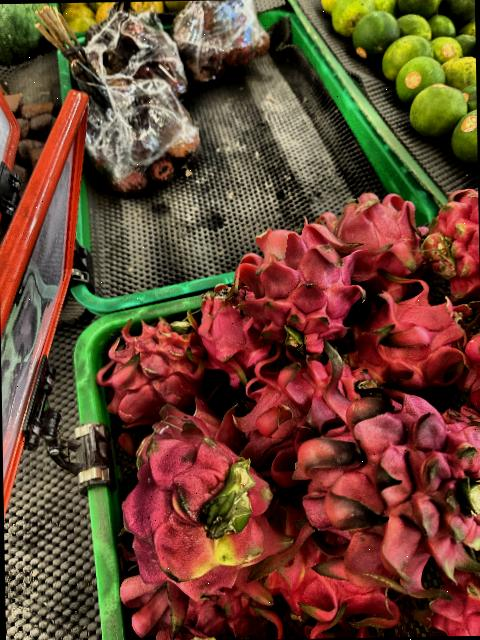buah-naga-belum-matang: (104, 416, 285, 598)
buah-naga-matang: (290, 380, 480, 579), (222, 221, 368, 351), (268, 526, 406, 638), (347, 268, 470, 386), (112, 561, 270, 640), (93, 317, 201, 412), (321, 188, 424, 284), (232, 372, 306, 471), (187, 289, 263, 380), (420, 179, 479, 288), (420, 560, 480, 636)
